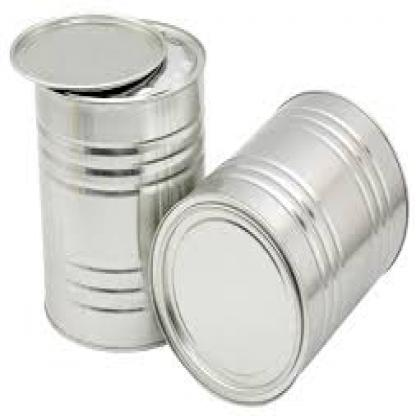METAL: (146, 90, 408, 403), (33, 21, 202, 349), (9, 13, 164, 86)
